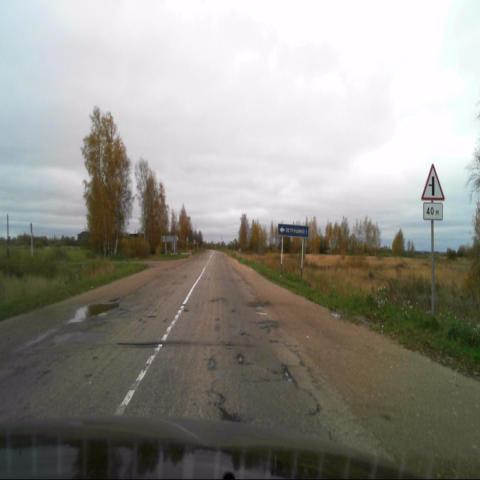8_1_1: (423, 203, 443, 220)
